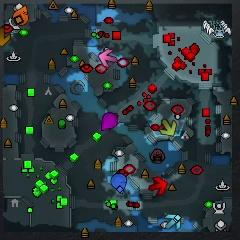p1: (111, 173, 128, 194)
p3: (100, 113, 118, 130)
p5: (13, 5, 29, 25)
x1: (100, 49, 116, 66)
x2: (160, 118, 176, 137)
x3: (165, 214, 181, 229)
x5: (0, 26, 12, 48)
